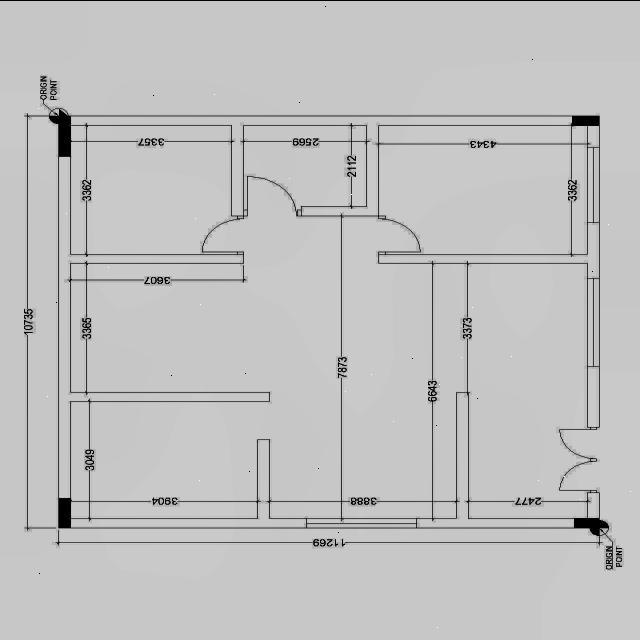Column: (59, 114, 70, 156), (59, 497, 70, 527), (572, 115, 600, 125), (574, 517, 600, 527)
Door: (244, 175, 302, 215), (201, 214, 244, 253), (378, 214, 421, 253)
Double-Door: (558, 426, 600, 492)
Window: (307, 517, 417, 527), (588, 278, 600, 366), (588, 146, 600, 222)
